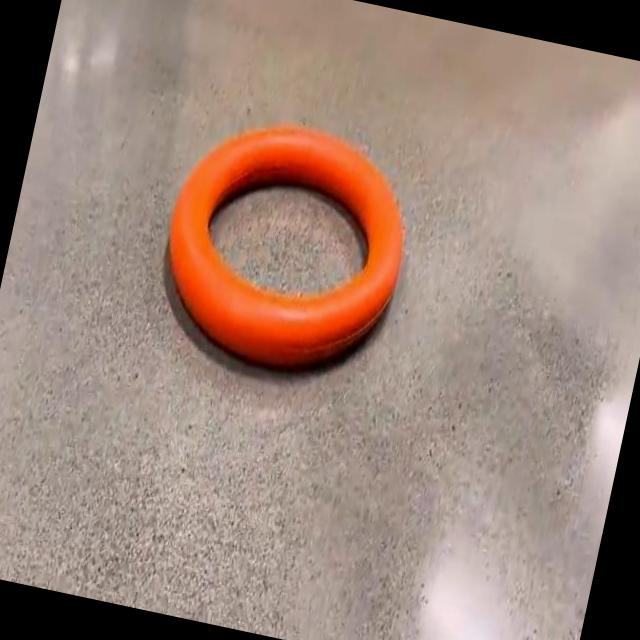note: (169, 126, 403, 366)
